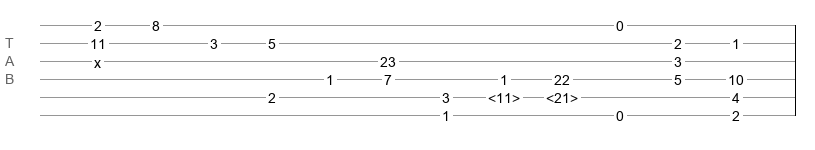0: (616, 18, 624, 28), (616, 108, 624, 118)
1: (326, 72, 334, 82), (442, 108, 450, 118), (500, 72, 508, 82), (732, 36, 740, 46)
10: (728, 72, 744, 82)
11: (90, 36, 106, 46)
2: (94, 18, 102, 28), (268, 90, 276, 100), (674, 36, 682, 46), (732, 108, 740, 118)
22: (554, 72, 570, 82)
23: (380, 54, 396, 64)
3: (210, 36, 218, 46), (442, 90, 450, 100), (674, 54, 682, 64)
4: (732, 90, 740, 100)
5: (268, 36, 276, 46), (674, 72, 682, 82)
7: (384, 72, 392, 82)
8: (152, 18, 160, 28)
harmonic: (488, 90, 520, 100), (546, 90, 578, 100)
x: (94, 55, 101, 63)
